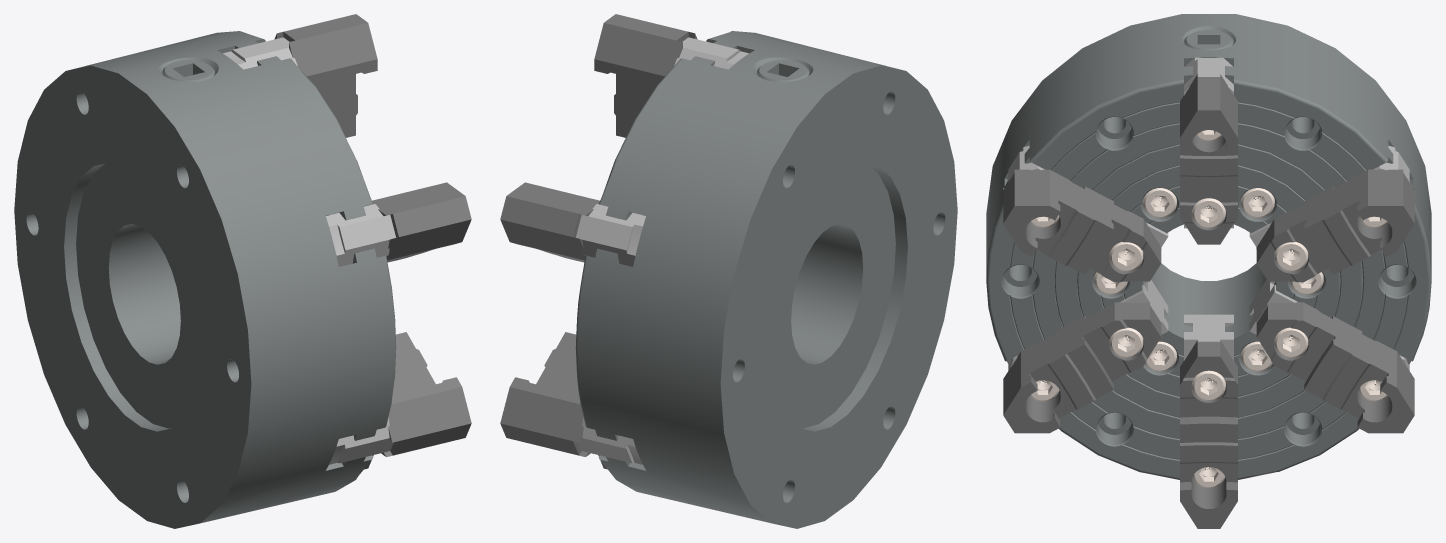
File: 10_inch_6_jaw_chuck.glb
3 views of the same model, side by side, from view 1: azimuth 30°, elevation 25°; view 2: azimuth 150°, elevation 25°; view 3: azimuth 270°, elevation 25° (orthographic). The views are drawn at different scales.
Visible parts, largest first — view 1: 10 inch 6 jaw chuck, top jaw (×3), JAW (×3); view 2: 10 inch 6 jaw chuck, top jaw (×3), JAW (×3); view 3: 10 inch 6 jaw chuck, top jaw (×6), socket head cap screw_ai_HX-SHCS 0.5-13x0.625x0.625-N (×11), JAW (×6).
Part boxes in pixels (<box>): 10 inch 6 jaw chuck: <box>14,31,396,528</box>; top jaw (×3): <box>274,14,471,456</box>; JAW (×3): <box>223,37,396,464</box>; 10 inch 6 jaw chuck: <box>575,31,957,528</box>; top jaw (×3): <box>500,14,697,456</box>; JAW (×3): <box>575,37,748,464</box>; 10 inch 6 jaw chuck: <box>986,14,1431,479</box>; top jaw (×6): <box>1003,74,1414,528</box>; socket head cap screw_ai_HX-SHCS 0.5-13x0.625x0.625-N (×11): <box>1109,188,1308,488</box>; JAW (×6): <box>1008,57,1409,370</box>.
Bounding box in the file's own units: 0.1396 × 0.2592 × 0.25.
